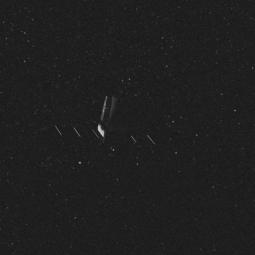soho: (69, 100, 156, 159)
